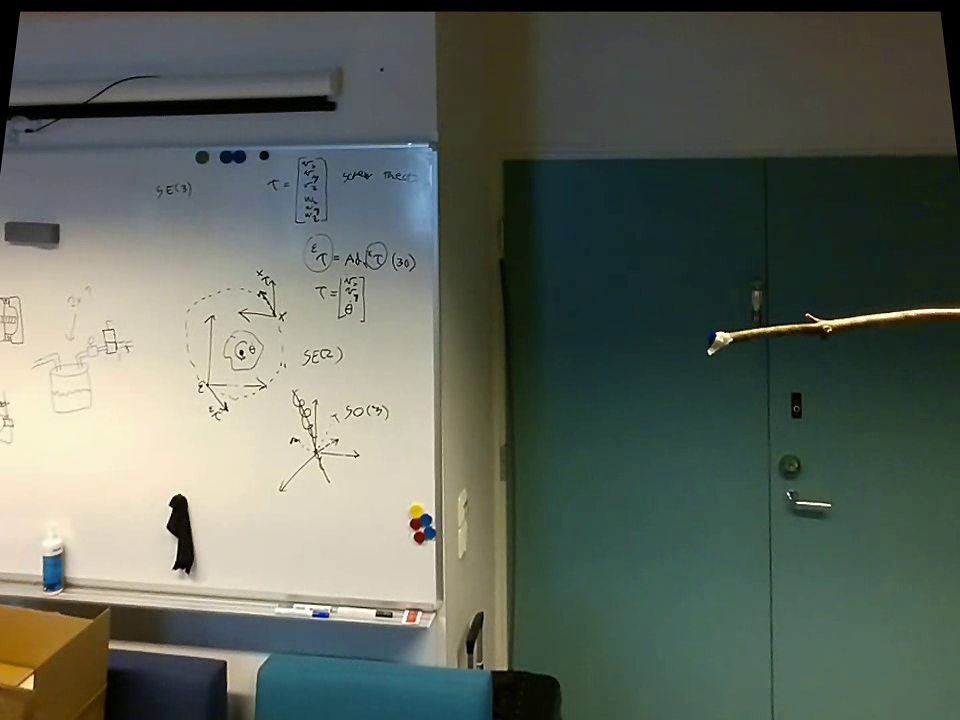aluminum_frame: (0, 568, 448, 627), (417, 133, 455, 603), (2, 135, 447, 156)
branch: (739, 299, 957, 354)
